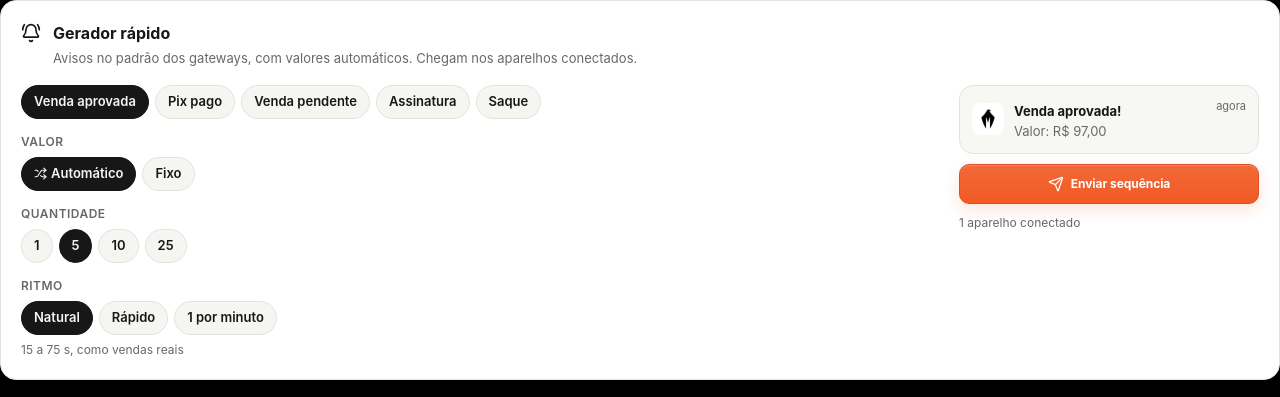
Test: gerador rápido › envia um aviso no padrão do gateway para os aparelhos conectados
The image size is (1280, 397).
Check: the text "1 aparelho conectado" is shown, box [959,215,1080,230]
Click the radio button labelled "Pix pago". click: coordinates (195, 102)
box: [155,84,235,118]
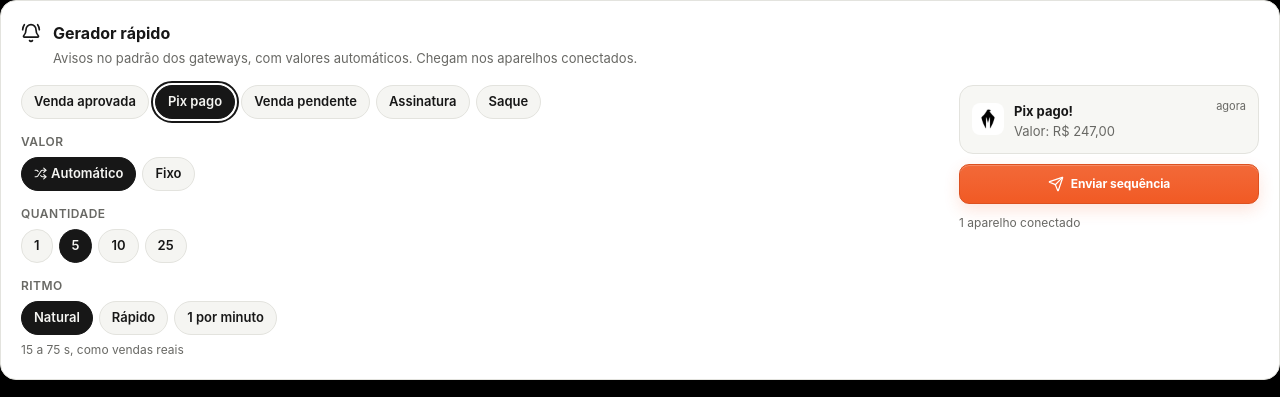
Click the button "Fixo". click: coordinates (169, 174)
box: [142,156,195,190]
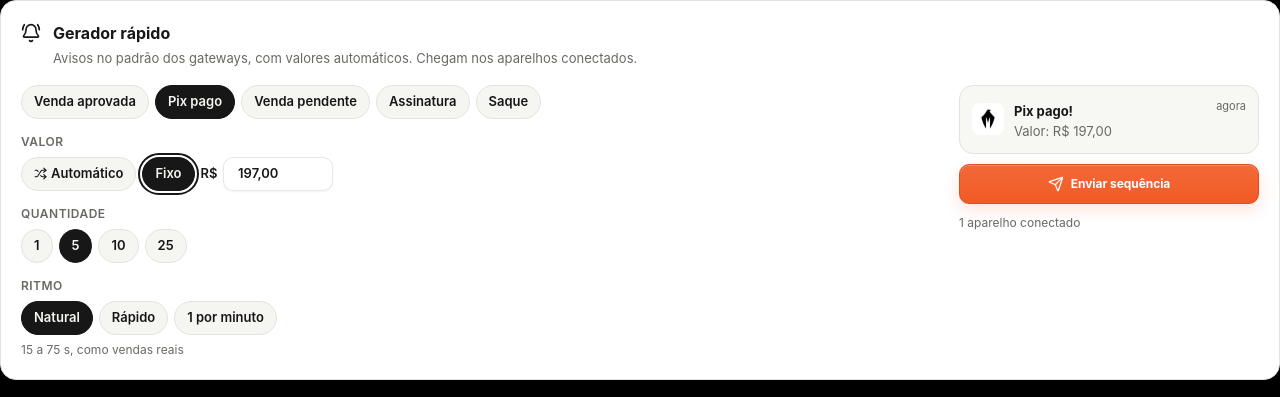
Replace the text in the field named "Valor fixo" with "97,00". click: coordinates (278, 174)
box: [224,156,334,190]
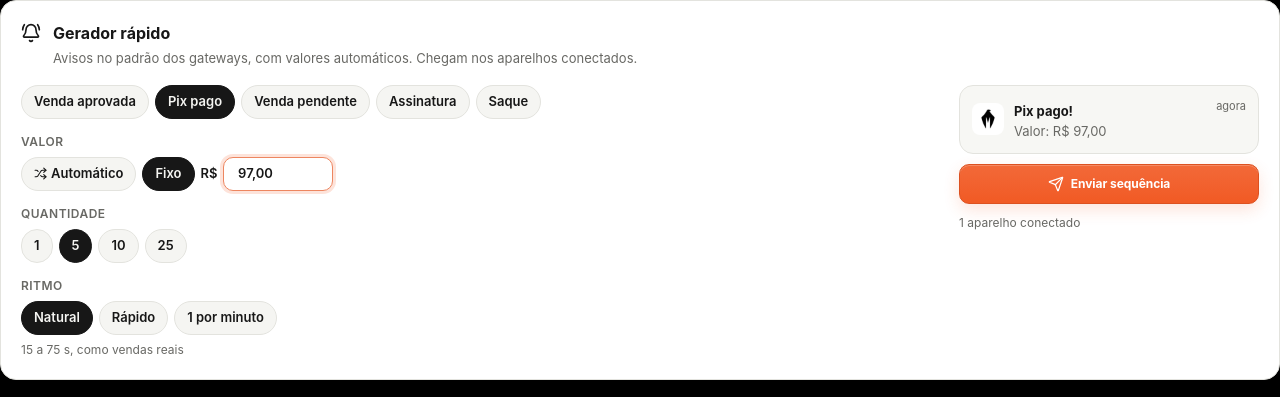
Click the button "1". click: coordinates (37, 246)
box: [21,228,52,262]
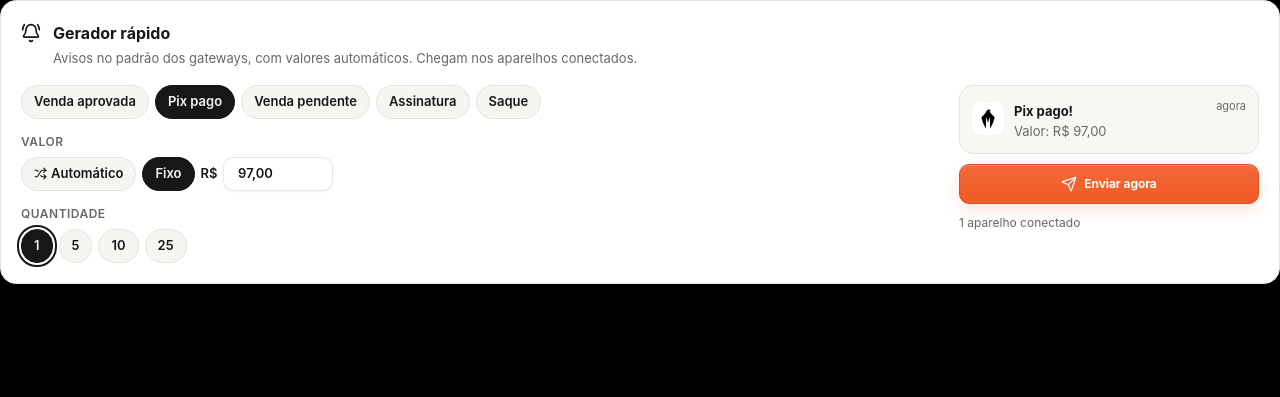
Click the button "Enviar agora". click: coordinates (1109, 184)
box: [959,164,1259,204]
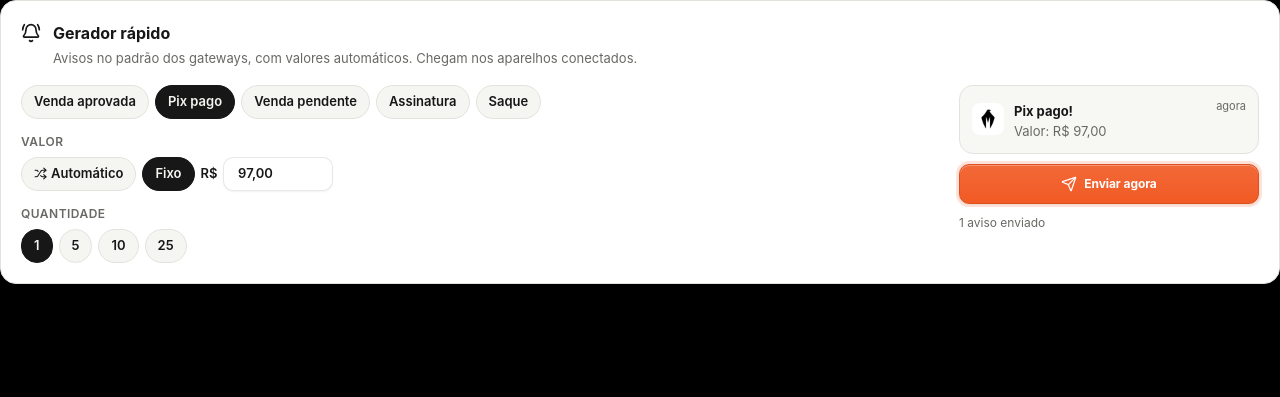
Check: the text "1 aviso enviado" is shown, box [959,215,1045,230]
